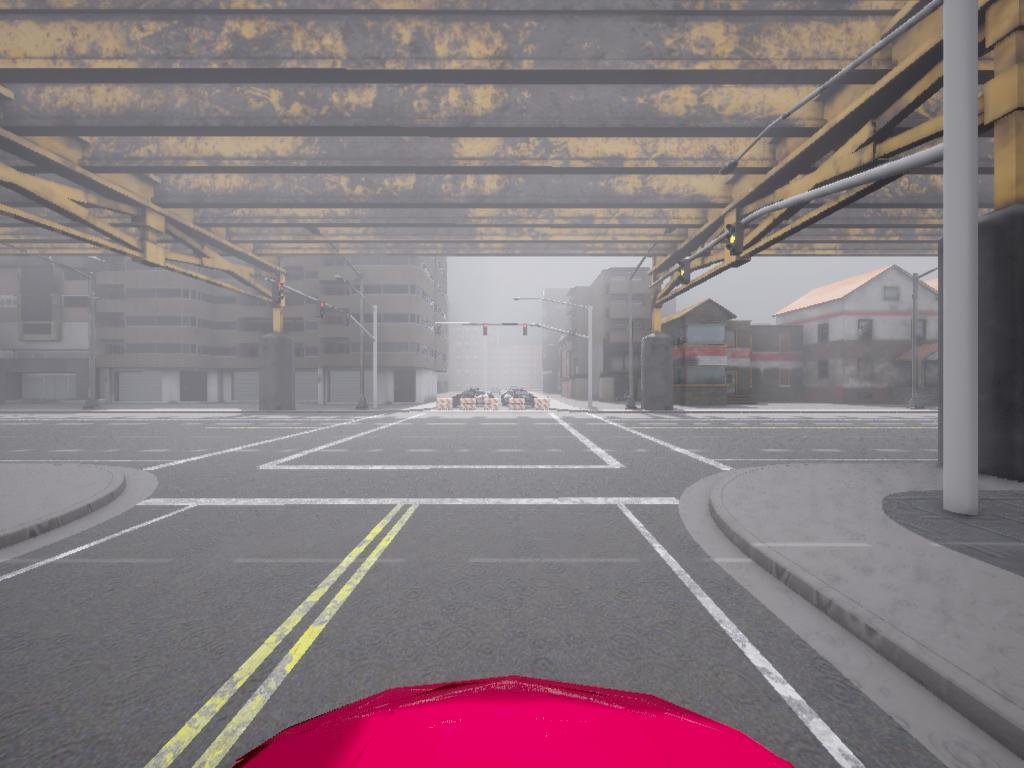traffic_light: (724, 223, 745, 262), (675, 260, 692, 287), (274, 282, 285, 309), (317, 301, 328, 324), (344, 309, 351, 330), (435, 325, 442, 339), (523, 323, 529, 337), (484, 324, 489, 337)
